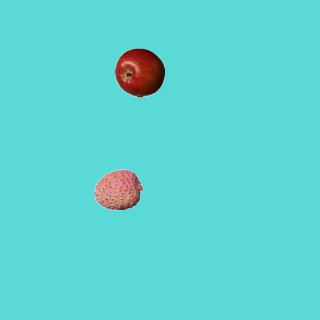Apple Braeburn: (114, 47, 164, 97)
Lychee: (93, 164, 143, 214)
